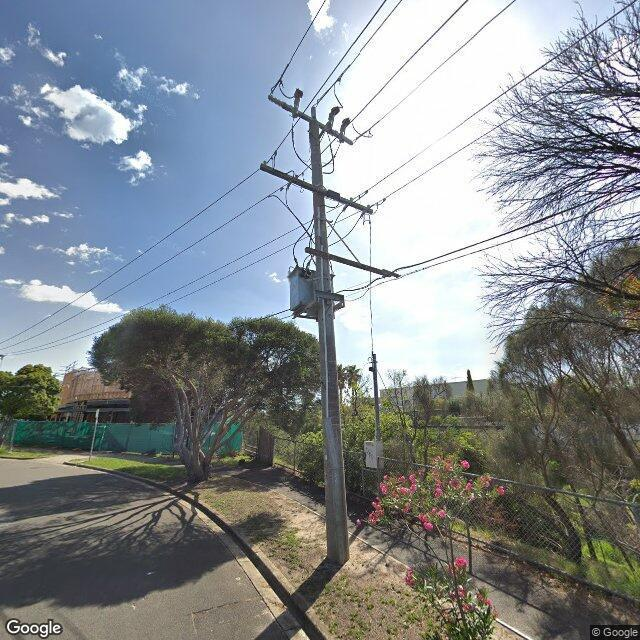HV-transmission: (269, 88, 351, 144)
concrete-pole: (308, 119, 349, 564)
crossarm: (260, 163, 372, 214), (268, 96, 352, 146), (304, 247, 400, 277), (314, 290, 344, 302)
timber-pole: (372, 353, 380, 442)
transformer: (288, 267, 334, 319)
